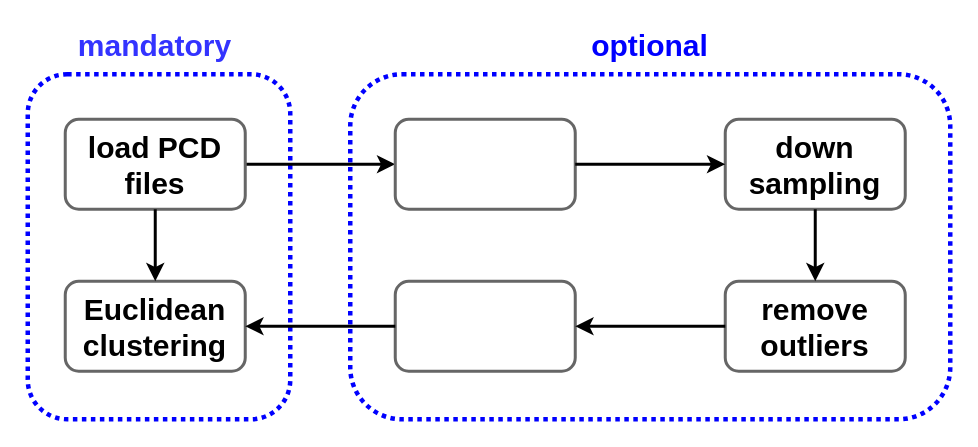
The diagram is 978 pixels wide and 447 high, and some of its shapes have lost their labels. The shapes that lost their labels are listed below. From the top down, each one's centre as x and y in pixels, then its label:
[484,163]: remove top/bottom
[484,325]: remove planes
